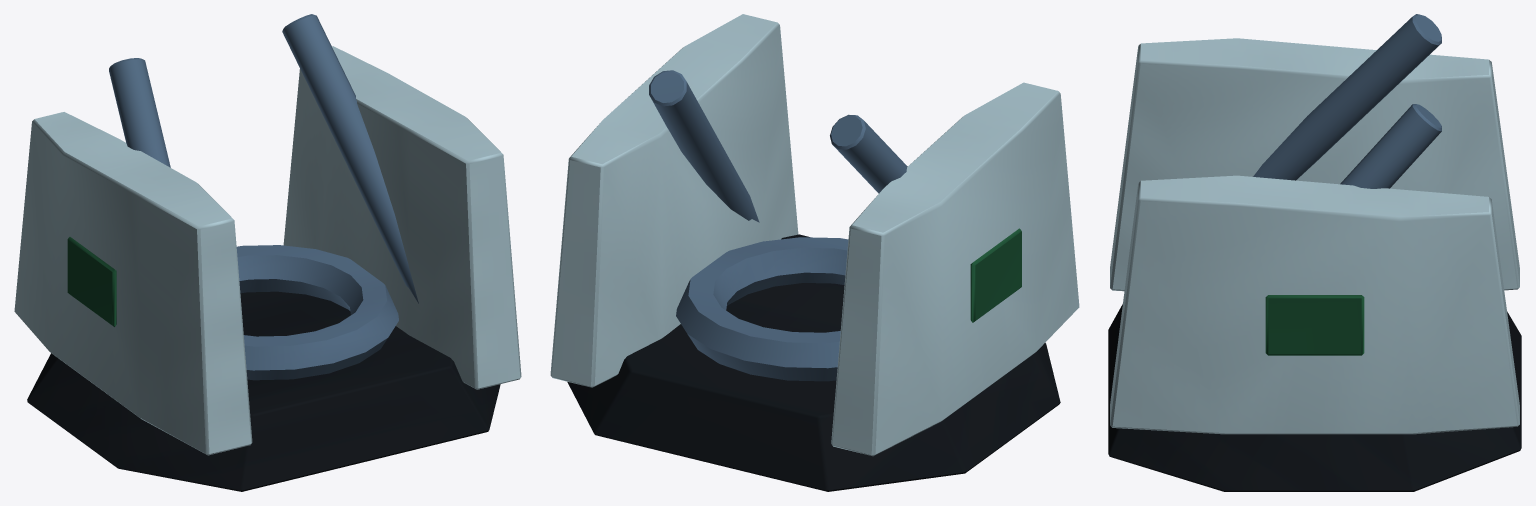
The model's file is Shield_Shell.fbx.
The picture shows the model from 3 angles, left to right: view 1: azimuth 30°, elevation 25°; view 2: azimuth 150°, elevation 25°; view 3: azimuth 270°, elevation 25°; orthographic projection. The views are drawn at different scales.
Parts seen in each view (by area): view 1: Shield_Shell; view 2: Shield_Shell; view 3: Shield_Shell.
Boxes of the visible parts, box(x1,y1,x2,y2) form: Shield_Shell: box(14, 14, 521, 491); Shield_Shell: box(550, 14, 1079, 491); Shield_Shell: box(1108, 14, 1521, 491).
Size of the model in its own units: 2.78 by 2.19 by 2.47.
